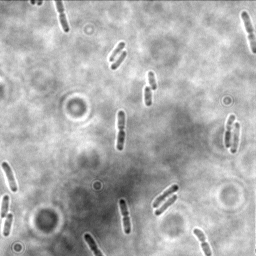Dividing: (151, 183, 180, 208), (240, 11, 255, 55), (192, 227, 213, 256), (53, 1, 71, 34), (118, 198, 133, 235), (83, 232, 106, 256), (116, 109, 127, 152), (224, 112, 236, 148)
Rod: (153, 193, 179, 216), (2, 161, 19, 193), (107, 40, 126, 63), (229, 121, 242, 154), (110, 50, 128, 71), (2, 211, 14, 237), (0, 194, 11, 219), (147, 70, 158, 91), (143, 85, 153, 107)
